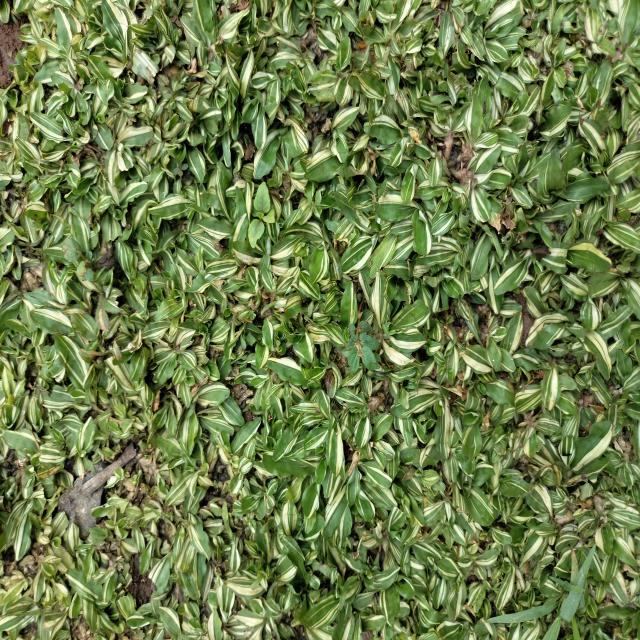rambat atas: (485, 540, 600, 640)
tunggang tengah: (340, 317, 386, 379)
ungu tunggang: (246, 178, 276, 249)
